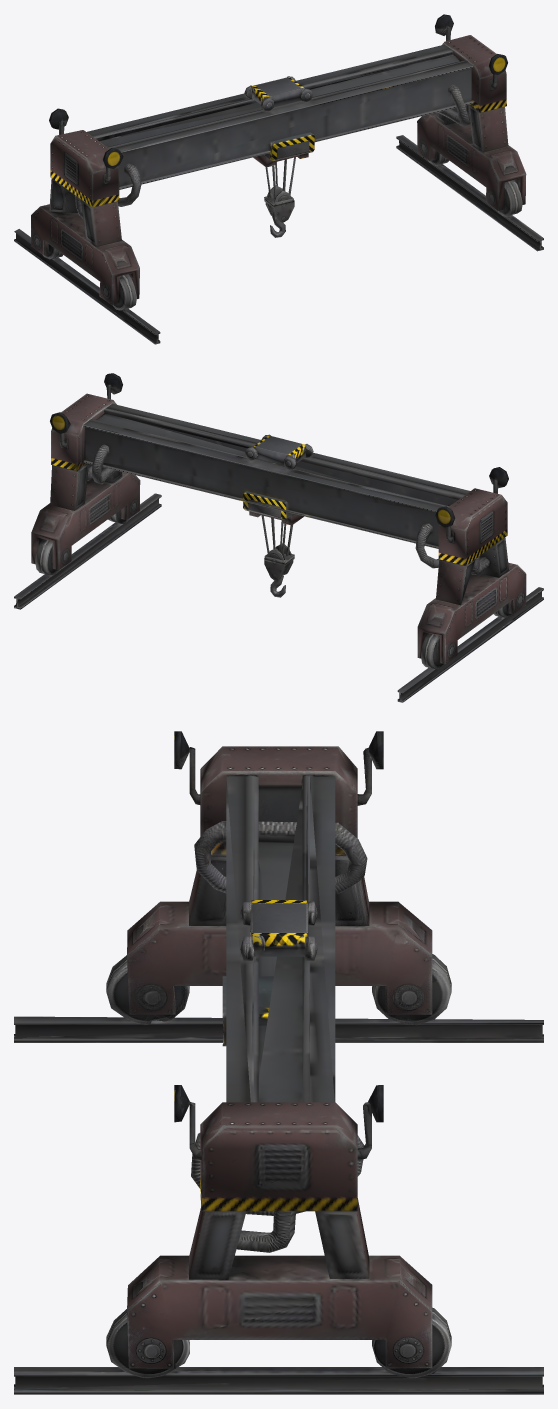
File: bay_crane.glb
3 renders of one model, top to bottom at view 1: azimuth 30°, elevation 25°; view 2: azimuth 150°, elevation 25°; view 3: azimuth 270°, elevation 25°, orthographic. The views are drawn at different scales.
Parts seen in each view (by area): view 1: bay_crane; view 2: bay_crane; view 3: bay_crane.
Boxes of the visible parts, box(x1,y1,x2,y2) form: bay_crane: box(14, 14, 543, 344); bay_crane: box(14, 373, 543, 702); bay_crane: box(14, 731, 543, 1394).
Size of the model in its own units: 20 by 7.55 by 11.77.
Materials: 1 (1 with a texture image).
